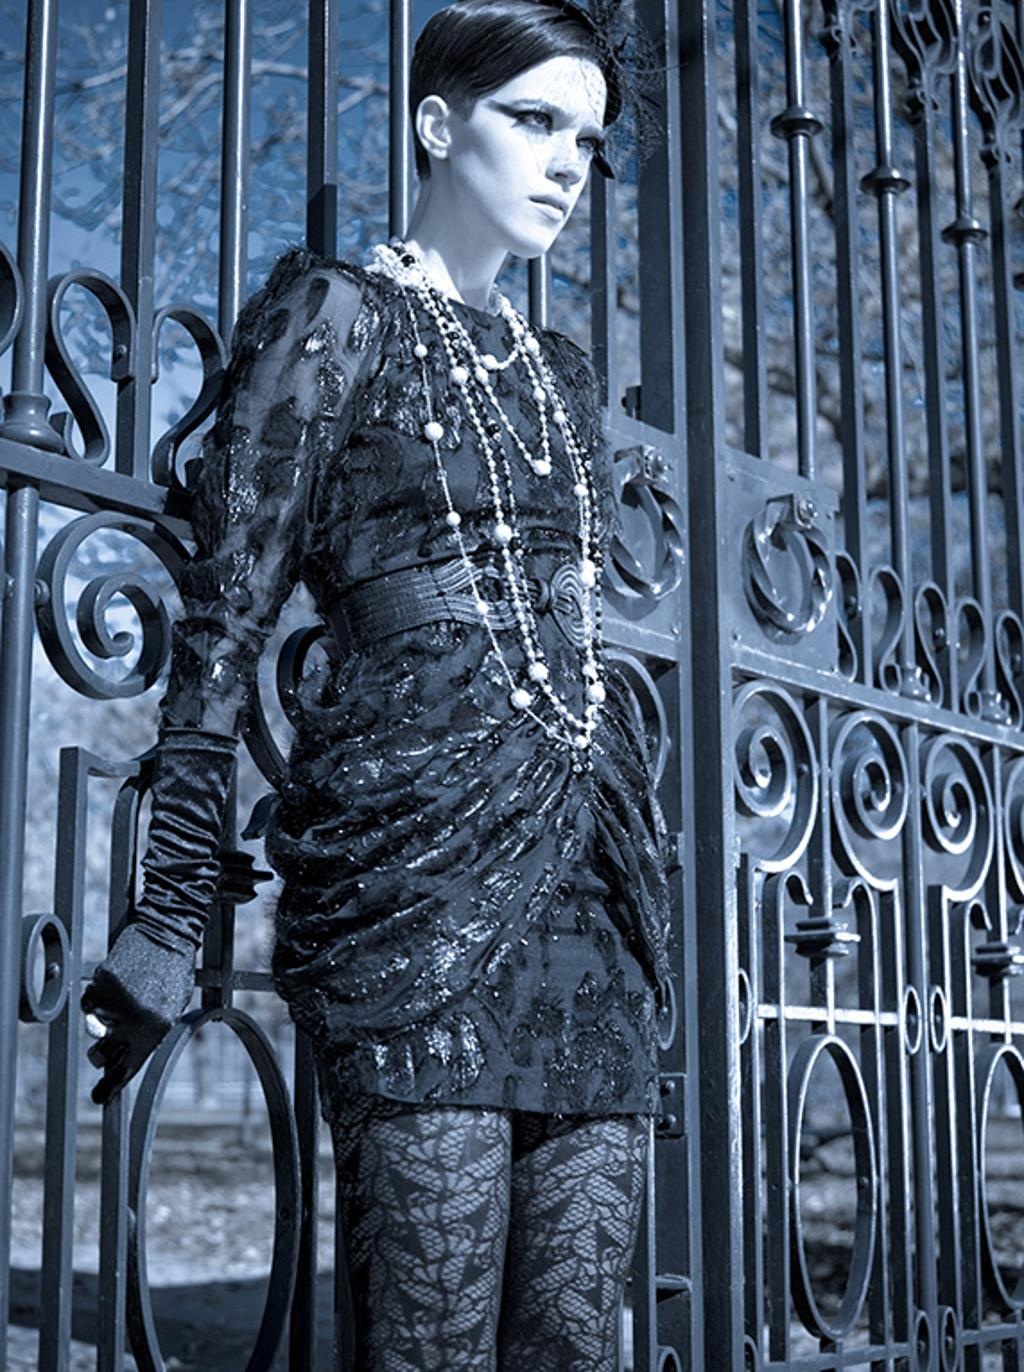face: (466, 51, 603, 252)
